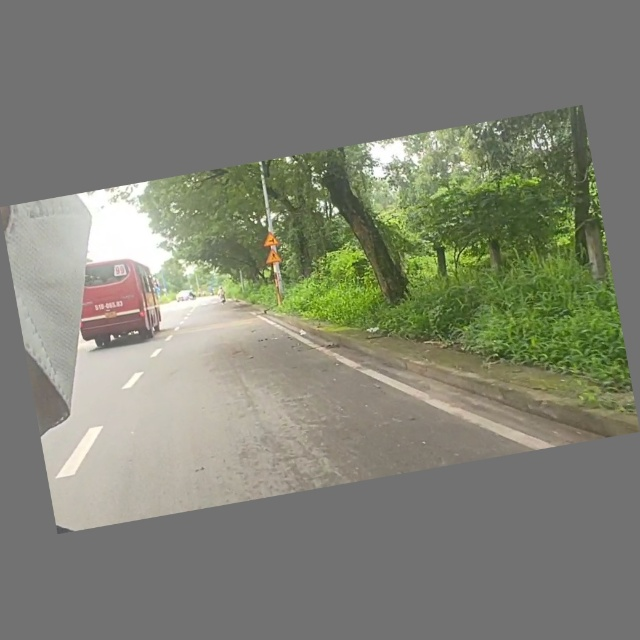W.205c: (261, 231, 282, 250)
W.224: (265, 247, 284, 266)
